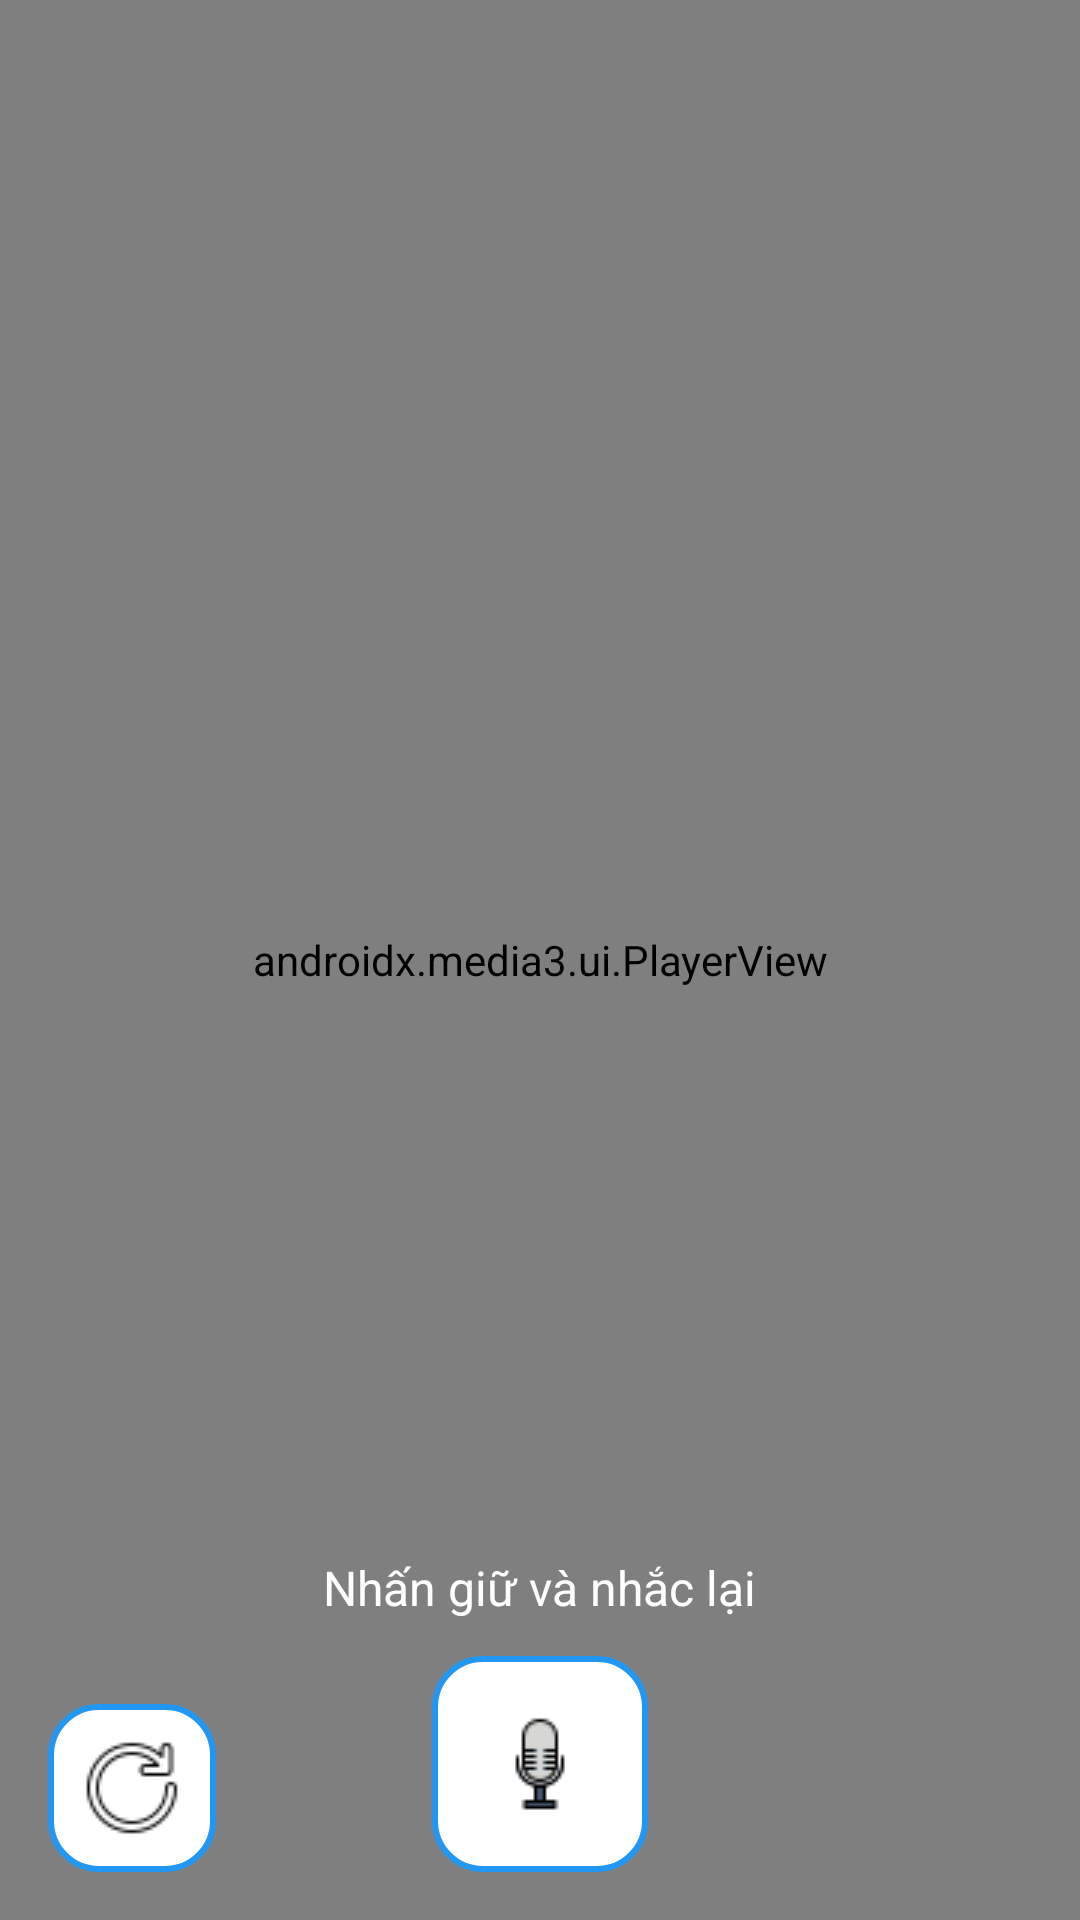

Screen size 1080 × 1920. Icon name, then its center in pixels as (x=x, y=y):
mic: (x=540, y=1764)
reload: (x=132, y=1788)
